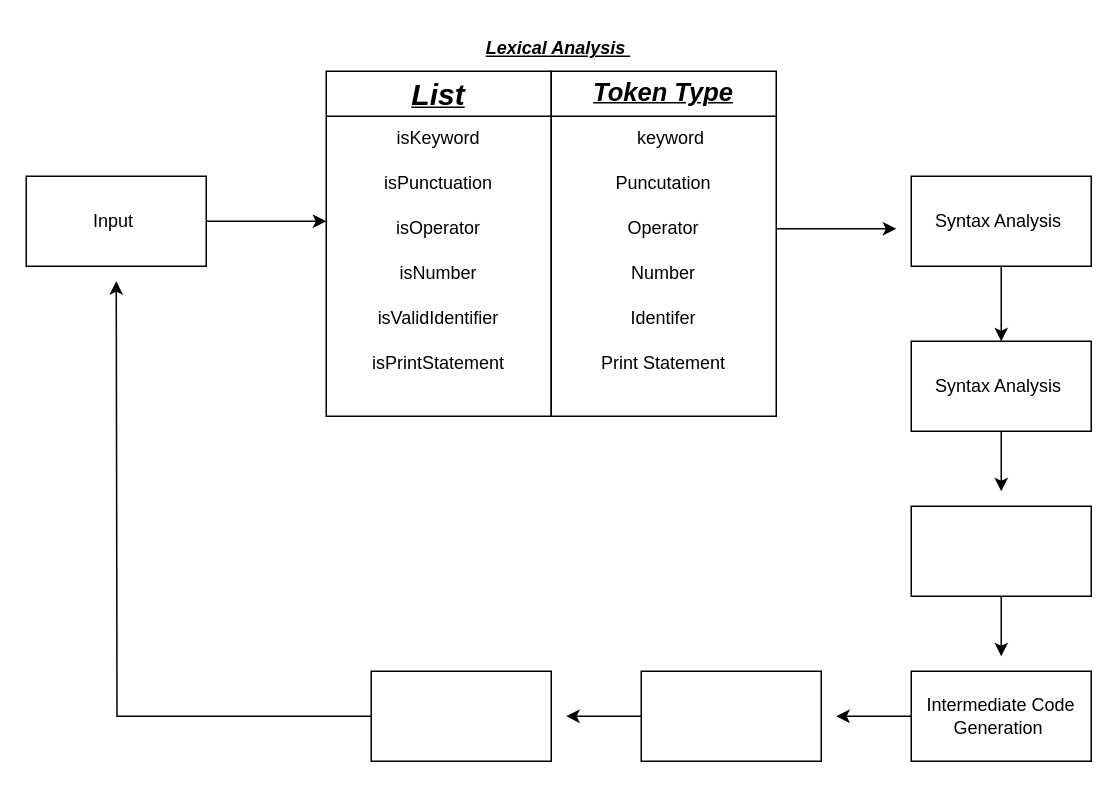
This 1118x788 diagram has some shape labels left out. Here are the shapes that lost their labels. From the top down, the centre of each, then its label:
the point at 1000,550: Semantic Analysis
the point at 460,715: Code Generation
the point at 730,715: Code Optimization
